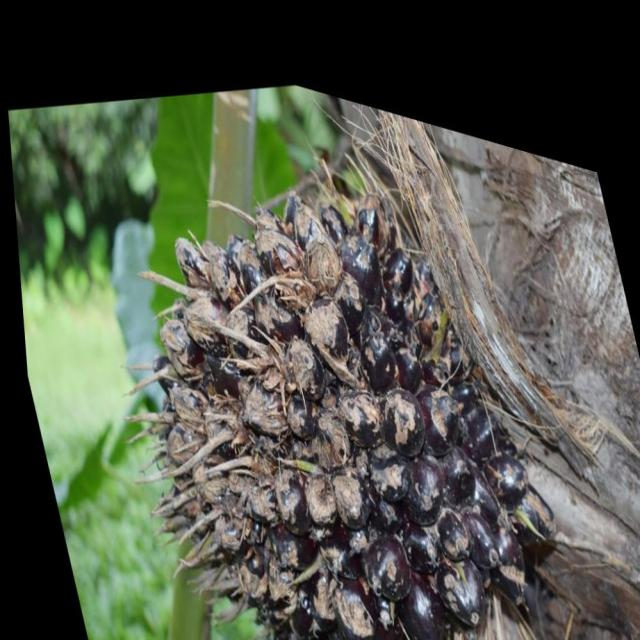Unripe: (96, 57, 588, 640)
